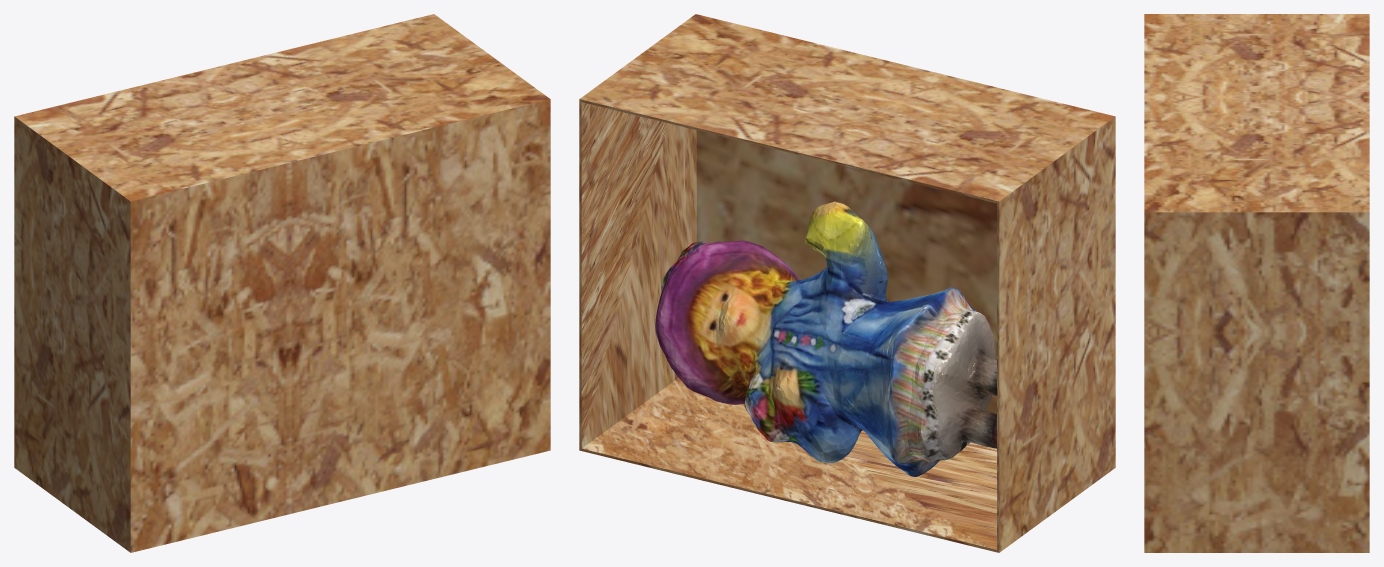
The model's file is victim_inside_box.dae.
The picture shows the model from 3 angles, left to right: view 1: azimuth 30°, elevation 25°; view 2: azimuth 150°, elevation 25°; view 3: azimuth 270°, elevation 25°; orthographic projection. The views are drawn at different scales.
Visible parts, largest first — view 1: Cube; view 2: Cube; view 3: Cube.
Part boxes in pixels (x1,y1,x2,y2): Cube: [14, 14, 550, 552]; Cube: [579, 14, 1115, 552]; Cube: [1144, 14, 1369, 552].
Size of the model in its own units: 0.5 by 0.24 by 0.4.
Materials: 2 (2 with a texture image).
